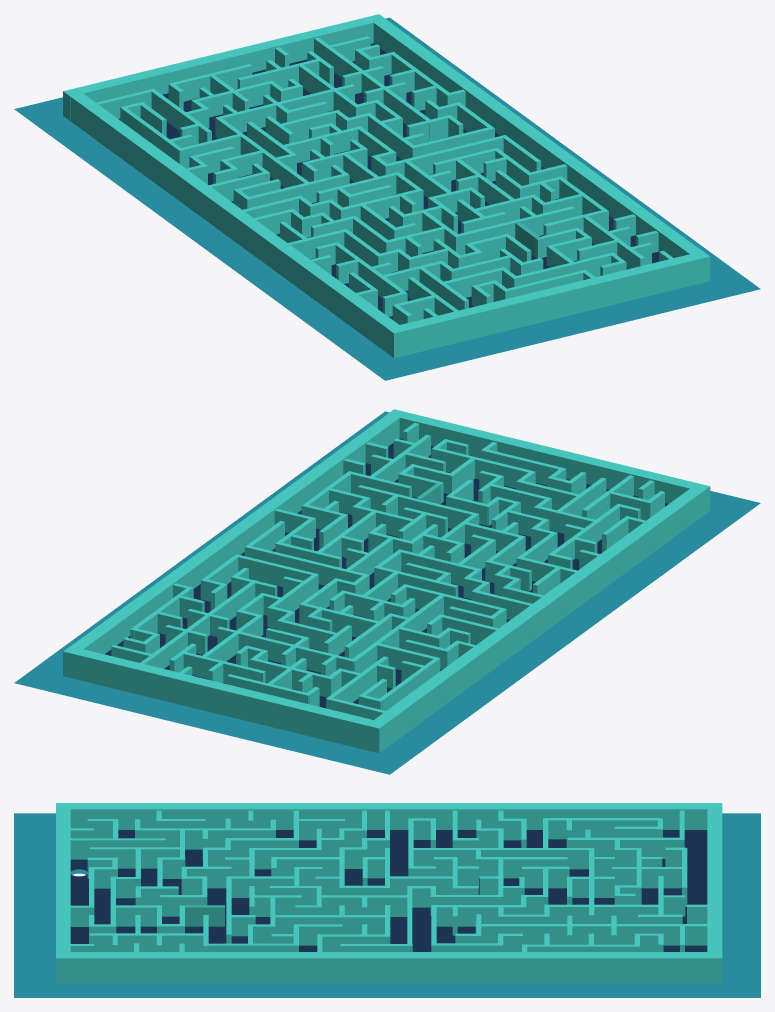
The model's file is Arena.fbx.
The picture shows the model from 3 angles, top to bottom: view 1: azimuth 30°, elevation 25°; view 2: azimuth 150°, elevation 25°; view 3: azimuth 270°, elevation 25°; orthographic projection.
Parts seen in each view (by area): view 1: Cube.112, Plane.001, Cube.017, Cube.109, Cube.075, Cube.158, Plane.002, Cube.111, Cube.202, Cube.145, Cube.053, Cube.057 (+28 smaller); view 2: Cube.112, Plane.001, Cube.017, Cube.109, Cube.075, Plane.002, Cube.158, Cube.111, Cube.202, Cube.053, Cube.057, Cube.117 (+29 smaller); view 3: Cube.112, Plane.001, Plane.002, Cube.017, Cube.109, Cube.075, Cube.111, Cube.117, Cube.160, Cube.222, Cube.057, Cube.114 (+46 smaller).
Boxes of the visible parts, x1,y1,x2,y2 form: Cube.112: [63, 14, 710, 358]; Plane.001: [14, 17, 760, 380]; Cube.017: [433, 148, 651, 268]; Cube.109: [243, 139, 423, 239]; Cube.075: [280, 221, 531, 272]; Cube.158: [355, 44, 465, 110]; Plane.002: [118, 43, 658, 319]; Cube.111: [314, 37, 433, 141]; Cube.202: [220, 84, 354, 132]; Cube.145: [453, 206, 574, 254]; Cube.053: [471, 269, 595, 306]; Cube.057: [392, 277, 458, 324]; Cube.112: [63, 409, 710, 753]; Plane.001: [14, 411, 760, 774]; Cube.017: [274, 434, 447, 567]; Cube.109: [329, 534, 532, 621]; Cube.075: [446, 479, 577, 595]; Plane.002: [105, 438, 668, 708]; Cube.158: [123, 583, 204, 653]; Cube.111: [140, 580, 257, 668]; Cube.202: [217, 626, 354, 672]; Cube.053: [481, 442, 586, 493]; Cube.057: [582, 475, 664, 520]; Cube.117: [350, 594, 445, 673]; Cube.112: [56, 803, 722, 983]; Plane.001: [14, 813, 760, 997]; Plane.002: [70, 830, 707, 951]; Cube.017: [89, 886, 390, 951]; Cube.109: [271, 810, 478, 895]; Cube.075: [160, 810, 344, 916]; Cube.111: [475, 924, 707, 945]; Cube.117: [410, 848, 593, 869]; Cube.160: [135, 828, 275, 849]; Cube.222: [544, 904, 658, 923]; Cube.057: [70, 819, 165, 859]; Cube.114: [567, 837, 684, 858].
Bounding box in the file's own units: 2115 × 171 × 3619.
